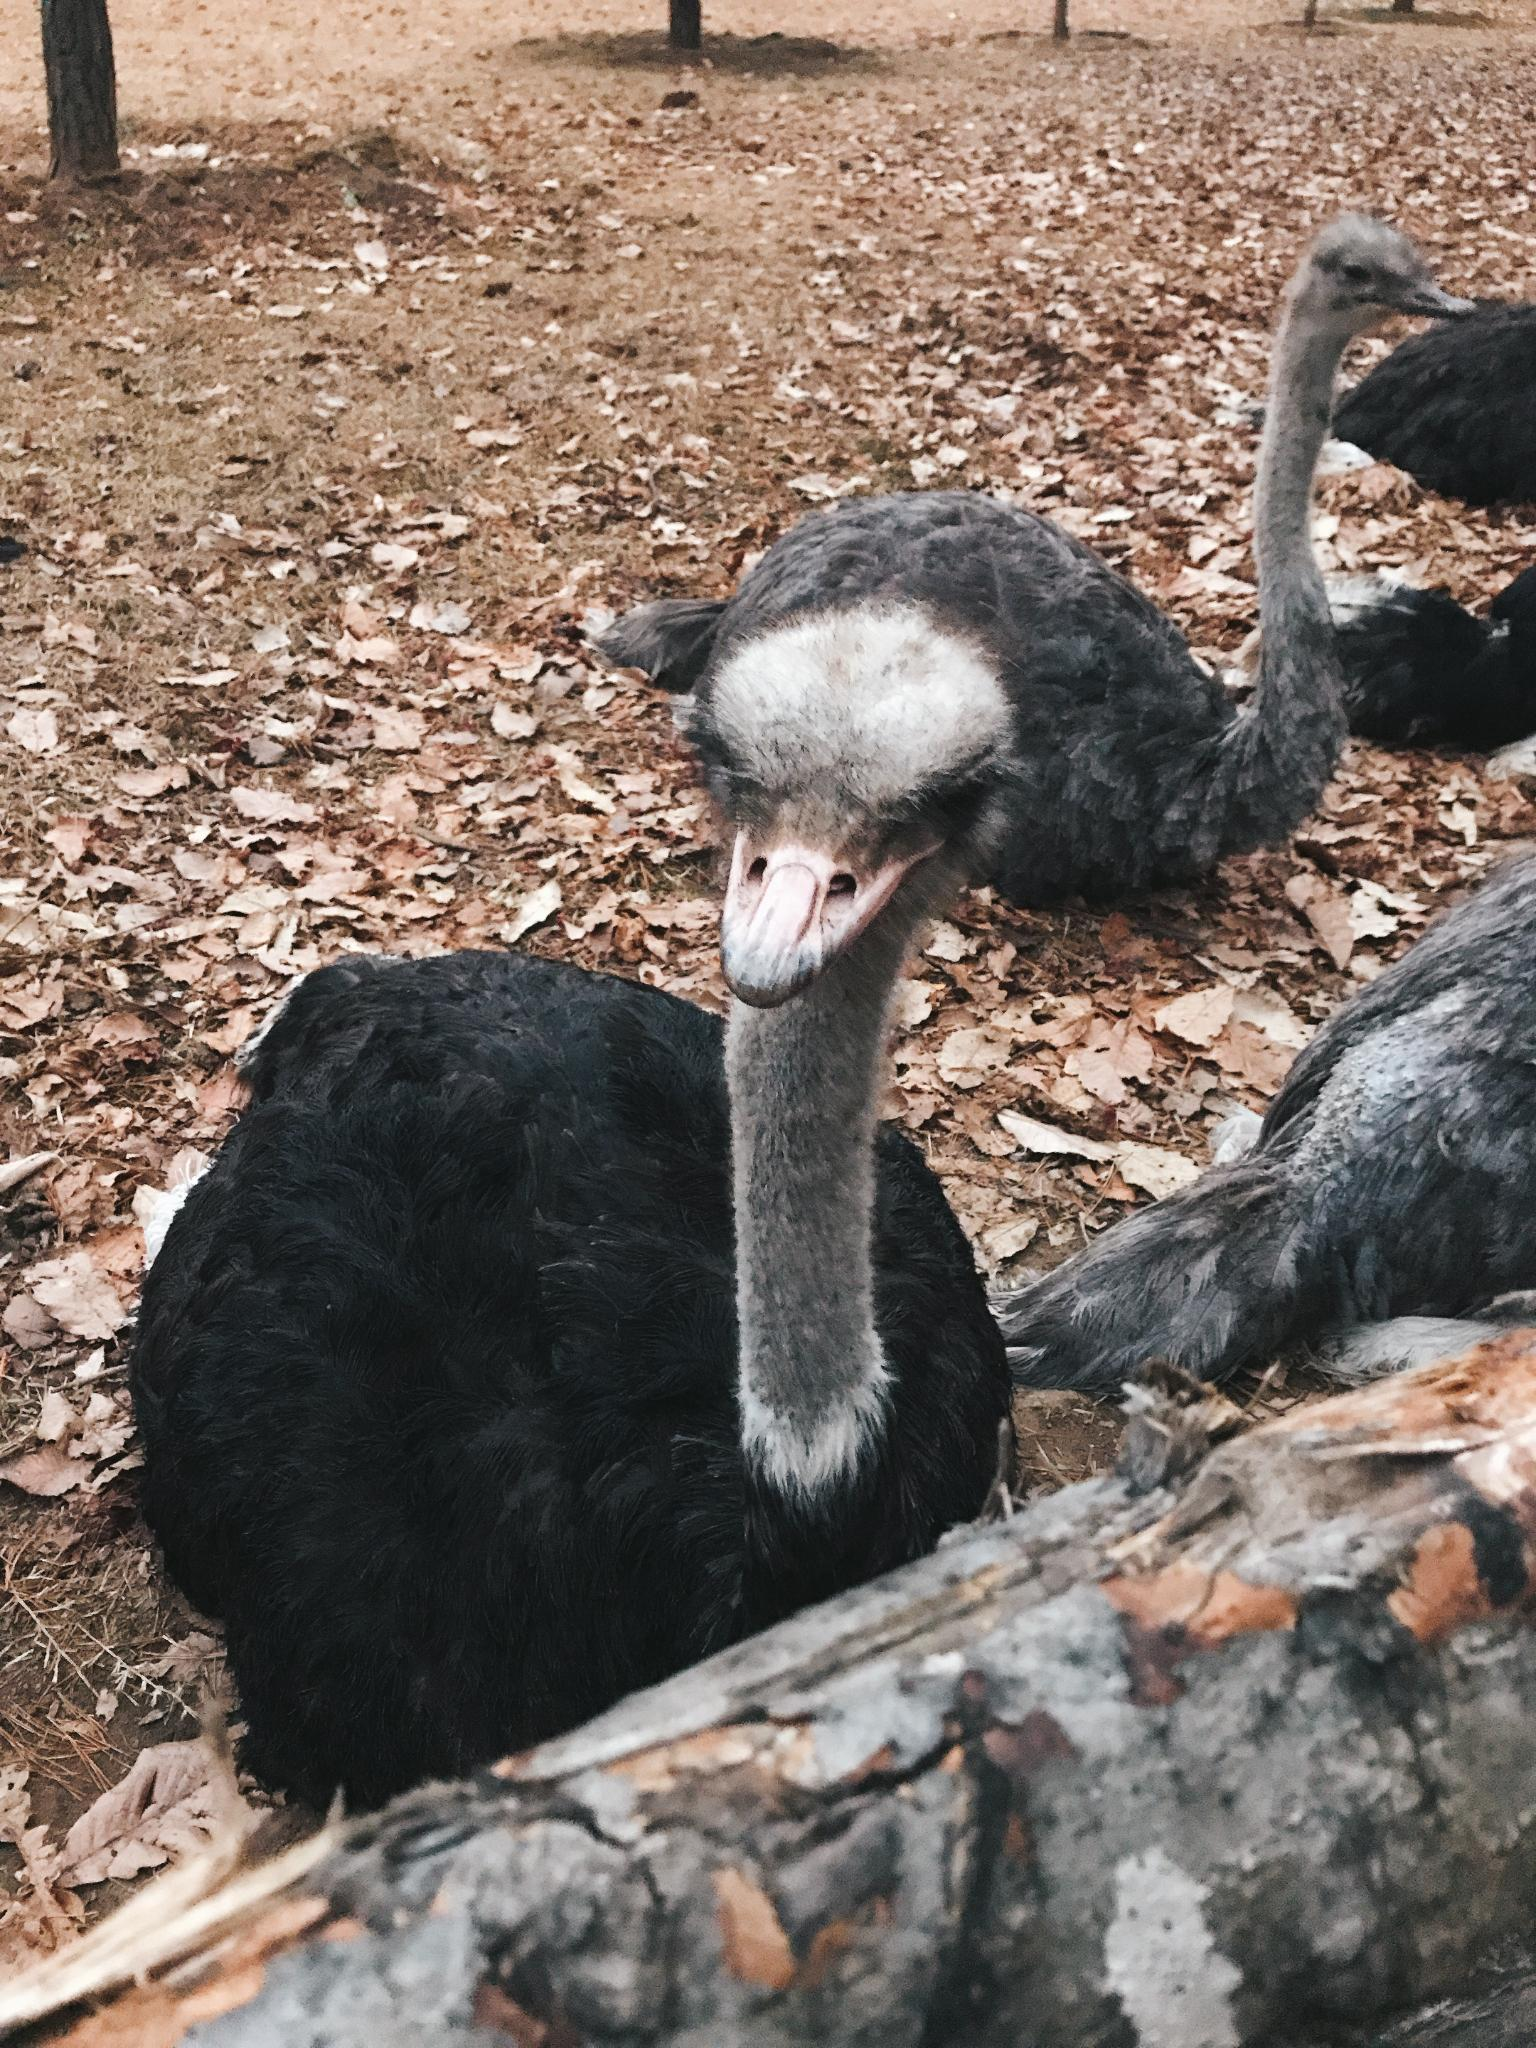ostrich: (131, 576, 1052, 1817), (574, 179, 1486, 908)
